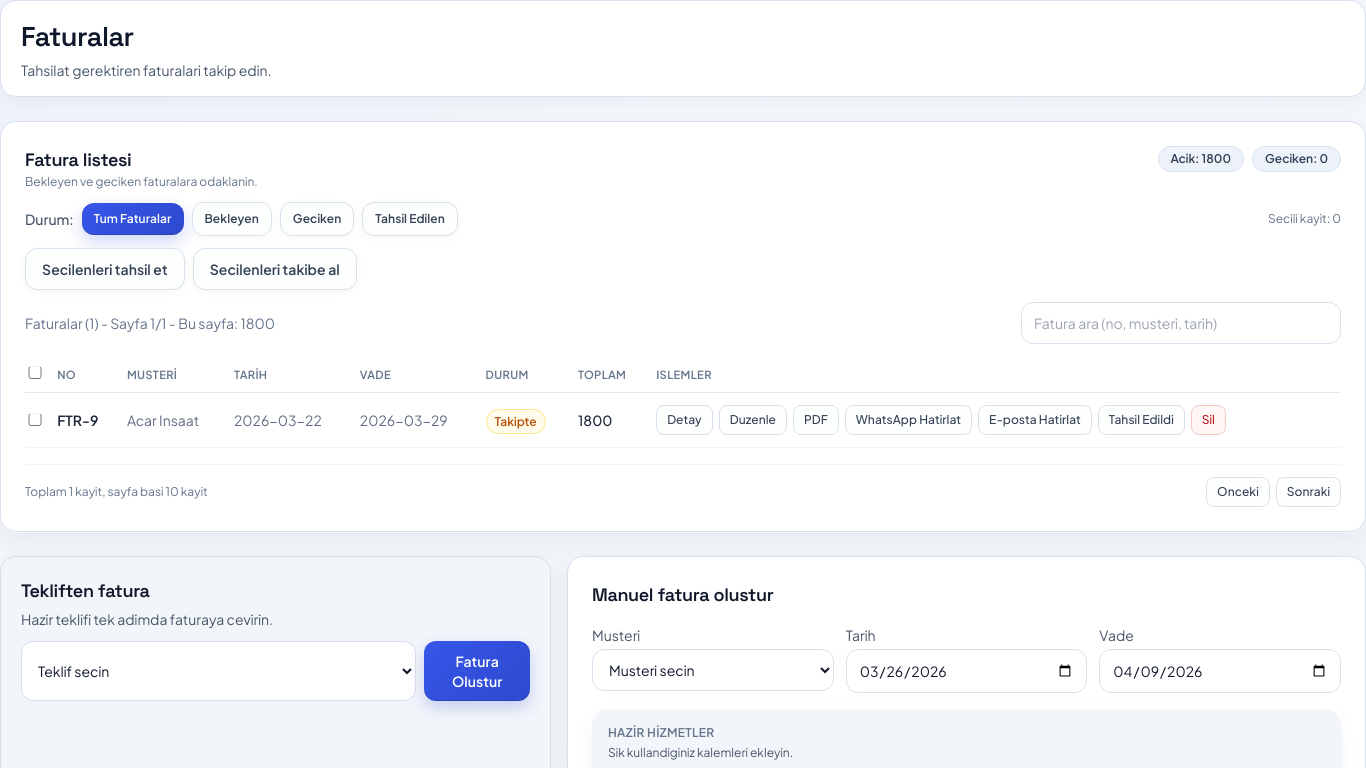
Test: InvoicesPage › sends whatsapp reminder from invoice list action
The image size is (1366, 768).
Click the button "WhatsApp Hatirlat".
click(908, 420)  # box [845,405,972,435]
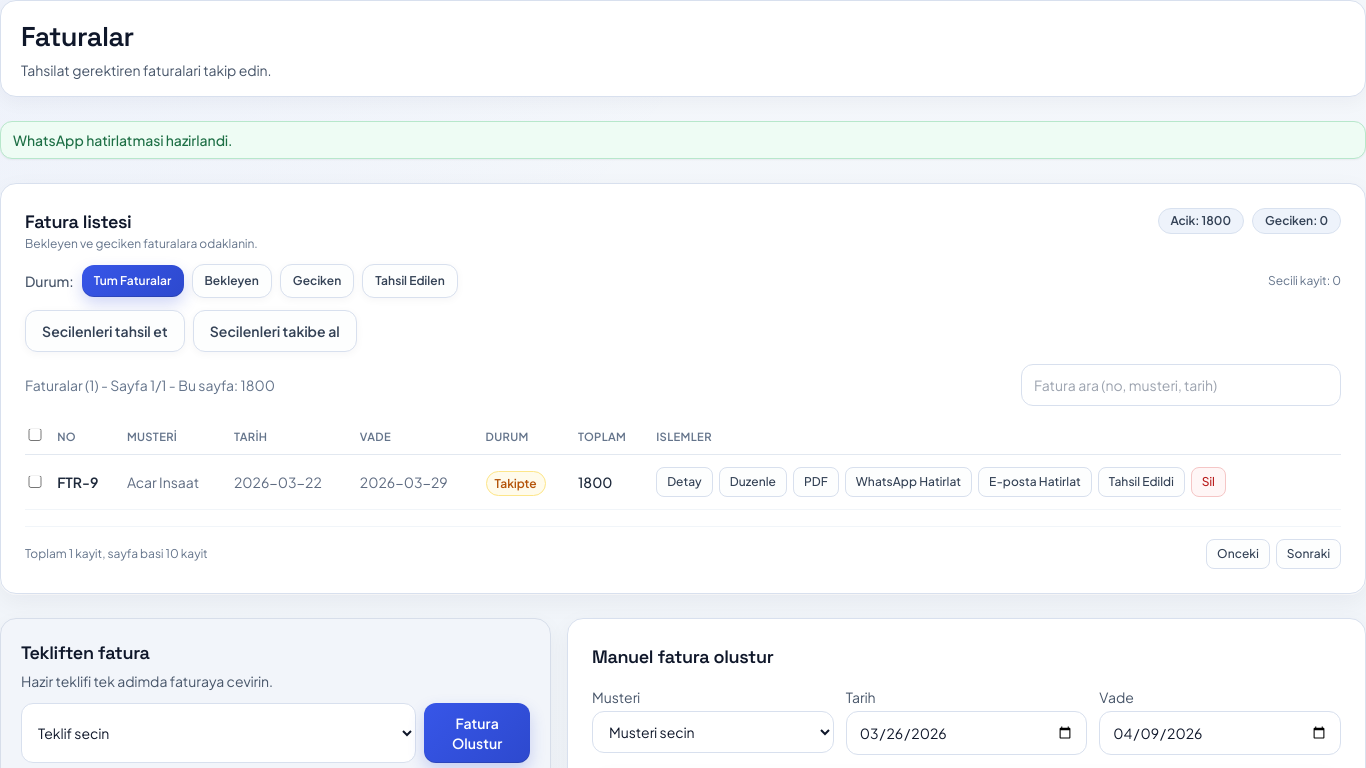
Now the text "WhatsApp hatirlatmasi hazirlandi." is shown, box [0,121,1365,159]
